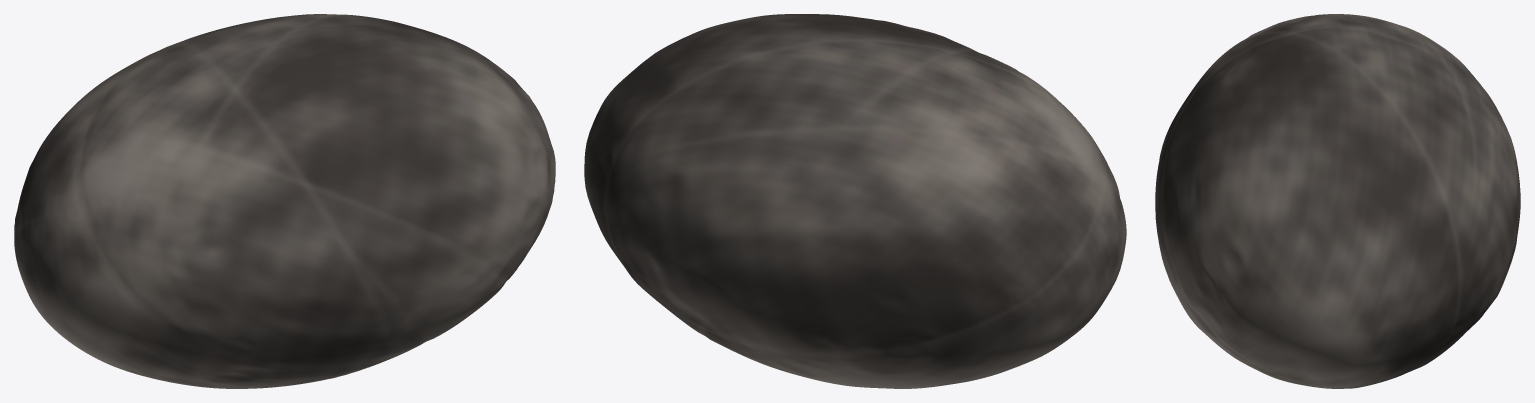
The model's file is sylvia.glb.
The picture shows the model from 3 angles, left to right: view 1: azimuth 30°, elevation 25°; view 2: azimuth 150°, elevation 25°; view 3: azimuth 270°, elevation 25°; orthographic projection. The views are drawn at different scales.
Visible parts, largest first — view 1: sylvia_body; view 2: sylvia_body; view 3: sylvia_body.
Boxes of the visible parts, box(x1,y1,x2,y2) form: sylvia_body: box(14, 14, 555, 388); sylvia_body: box(584, 14, 1126, 388); sylvia_body: box(1155, 14, 1520, 388).
Size of the model in its own units: 2.49 by 1.52 by 1.69.
Materials: 1 (1 with a texture image).
